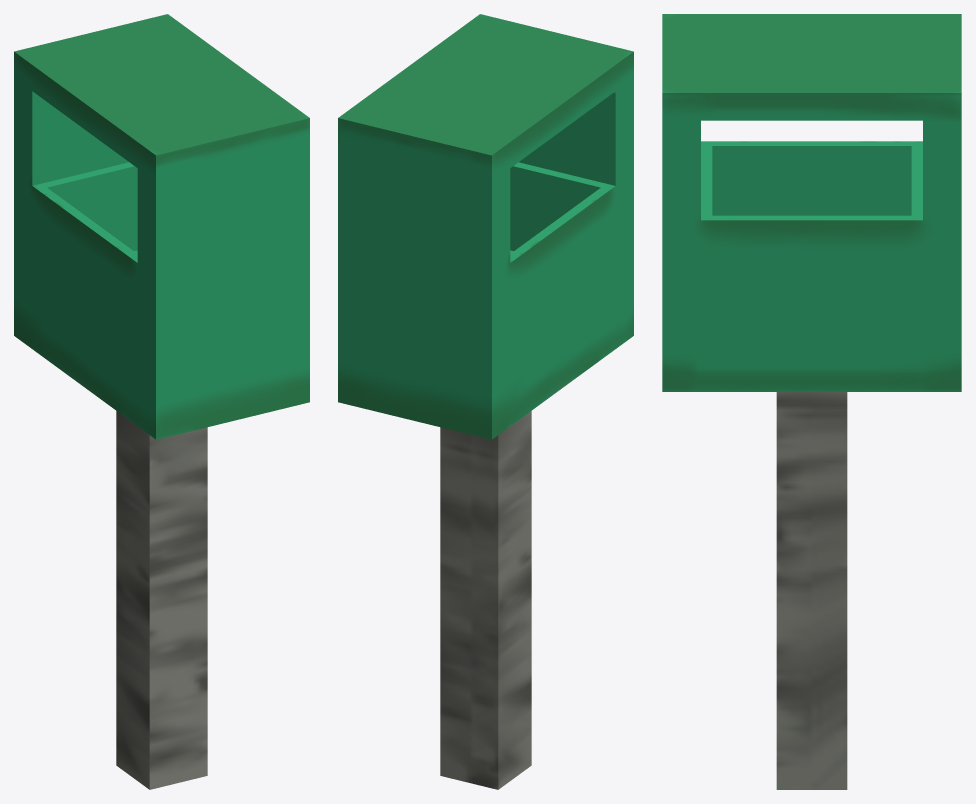
The model's file is StreetStructures_Lixeira.fbx.
The picture shows the model from 3 angles, left to right: view 1: azimuth 30°, elevation 25°; view 2: azimuth 150°, elevation 25°; view 3: azimuth 270°, elevation 25°; orthographic projection. The views are drawn at different scales.
Parts seen in each view (by area): view 1: Lixeira; view 2: Lixeira; view 3: Lixeira.
Boxes of the visible parts, bbox=[...] form: Lixeira: bbox=[14, 14, 309, 789]; Lixeira: bbox=[338, 14, 633, 789]; Lixeira: bbox=[662, 14, 961, 789].
Bounding box in the file's own units: 30.24 × 129 × 48.39.
